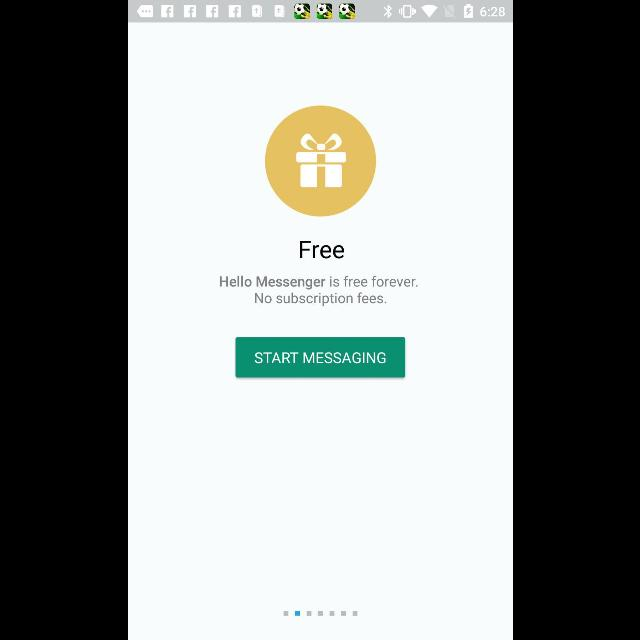icon: (264, 105, 376, 217)
pageindicator: (283, 610, 357, 616)
text: (218, 276, 418, 306), (298, 241, 344, 259)
textbutton: (235, 337, 405, 378)
uppertaskbar: (128, 1, 512, 23)
